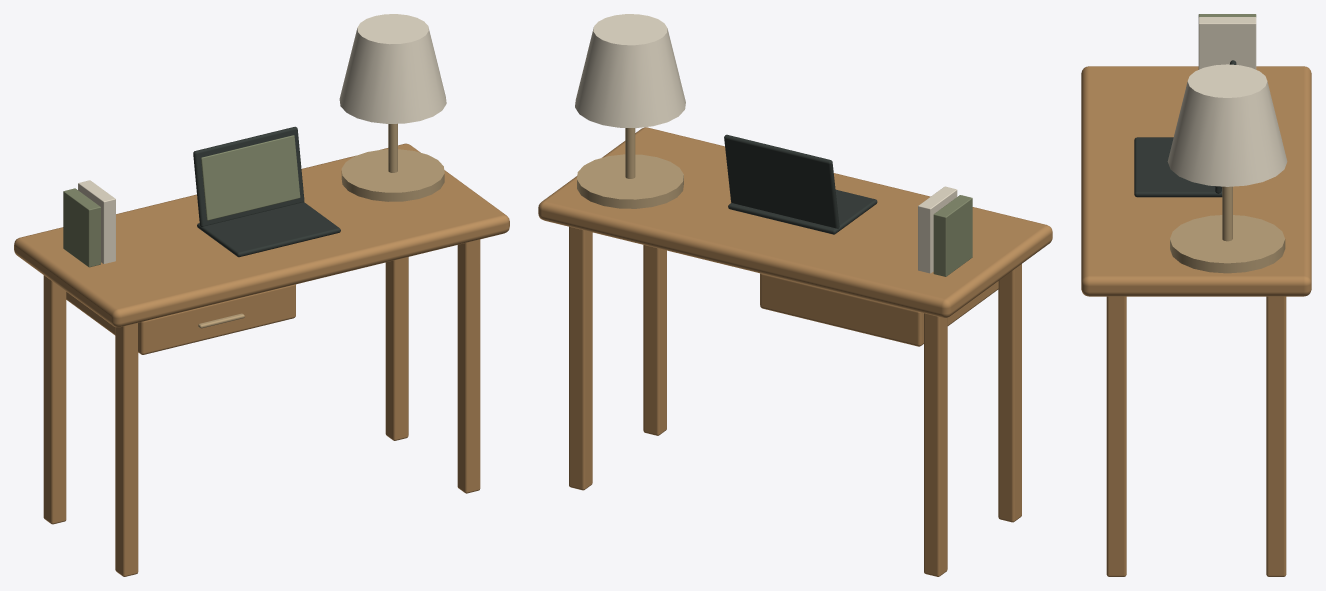
3 views of the same model, side by side, from view 1: azimuth 30°, elevation 25°; view 2: azimuth 150°, elevation 25°; view 3: azimuth 270°, elevation 25° (orthographic). The views are drawn at different scales.
Visible parts, largest first — view 1: Desk top, Tapered leg (×4), Linen lampshade, Laptop lit screen, Pencil drawer, Lamp base, Laptop keyboard, Cloth-bound book (×2), Laptop display; view 2: Desk top, Tapered leg (×4), Linen lampshade, Laptop display, Pencil drawer, Lamp base, Cloth-bound book (×2), Laptop keyboard; view 3: Desk top, Tapered leg (×2), Linen lampshade, Lamp base, Laptop keyboard, Cloth-bound book, Lamp stem.
Part boxes in pixels (x1,y1,x2,y2): Desk top: (14, 143, 509, 327); Tapered leg (×4): (43, 239, 480, 576); Linen lampshade: (339, 14, 446, 123); Laptop lit screen: (201, 135, 300, 220); Pencil drawer: (66, 284, 295, 354); Lamp base: (341, 149, 444, 201); Laptop keyboard: (197, 202, 340, 257); Cloth-bound book (×2): (63, 180, 115, 267); Laptop display: (193, 126, 304, 226); Desk top: (538, 127, 1052, 317); Tapered leg (×4): (569, 226, 1021, 576); Linen lampshade: (575, 14, 685, 128); Laptop display: (724, 134, 839, 228); Pencil drawer: (760, 273, 998, 346); Lamp base: (577, 154, 683, 208); Cloth-bound book (×2): (918, 186, 972, 276); Laptop keyboard: (728, 189, 877, 234); Desk top: (1081, 66, 1311, 296); Tapered leg (×2): (1106, 296, 1286, 576); Linen lampshade: (1167, 64, 1287, 186); Lamp base: (1170, 215, 1285, 273); Laptop keyboard: (1134, 137, 1222, 197); Cloth-bound book: (1198, 17, 1256, 69); Lamp stem: (1222, 186, 1232, 241).
Bounding box in the file's own units: 1.15 × 1.19 × 0.52.
